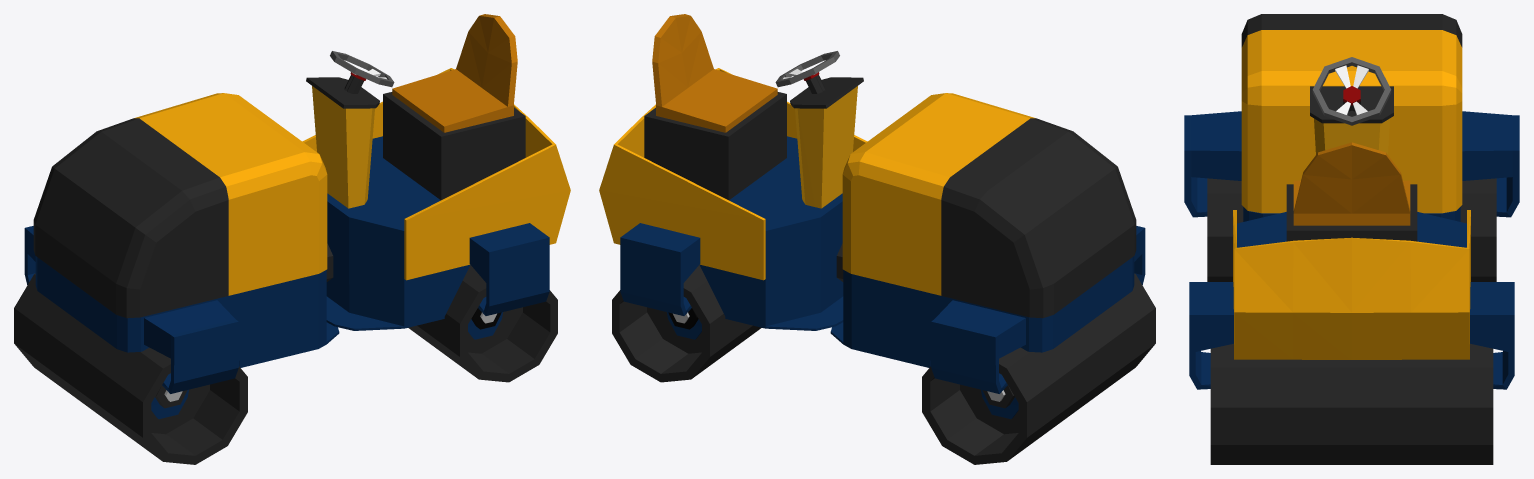
Rendered from compacteur_compact.glb.
3 views of the same model, side by side, from view 1: azimuth 30°, elevation 25°; view 2: azimuth 150°, elevation 25°; view 3: azimuth 270°, elevation 25° (orthographic). The views are drawn at different scales.
Parts seen in each view (by area): view 1: Roller_19; view 2: Roller_19; view 3: Roller_19.
Boxes of the visible parts, x1,y1,x2,y2 form: Roller_19: (14,14,570,464); Roller_19: (599,14,1155,464); Roller_19: (1184,14,1519,464).
Bounding box in the file's own units: 2.58 × 1.73 × 1.51.
Materials: 1 (1 with a texture image).
